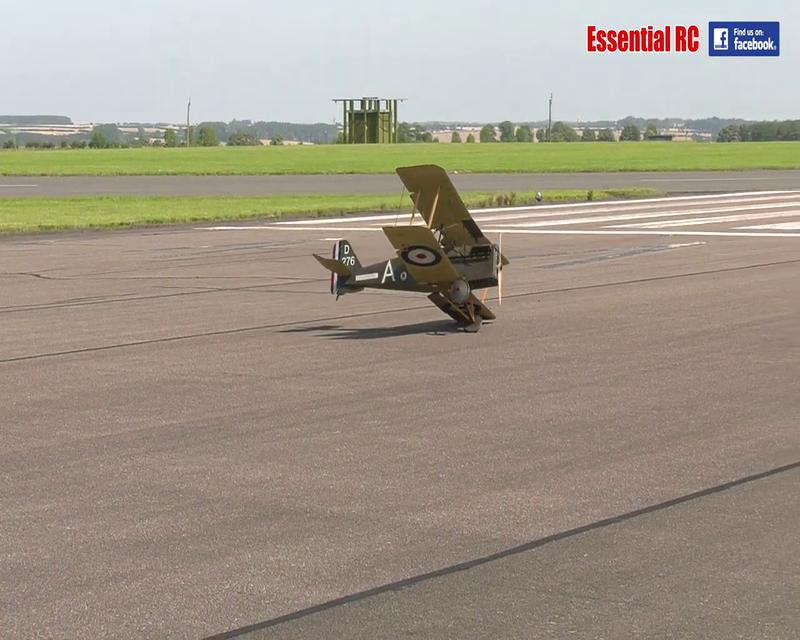UAV: (311, 162, 509, 333)
